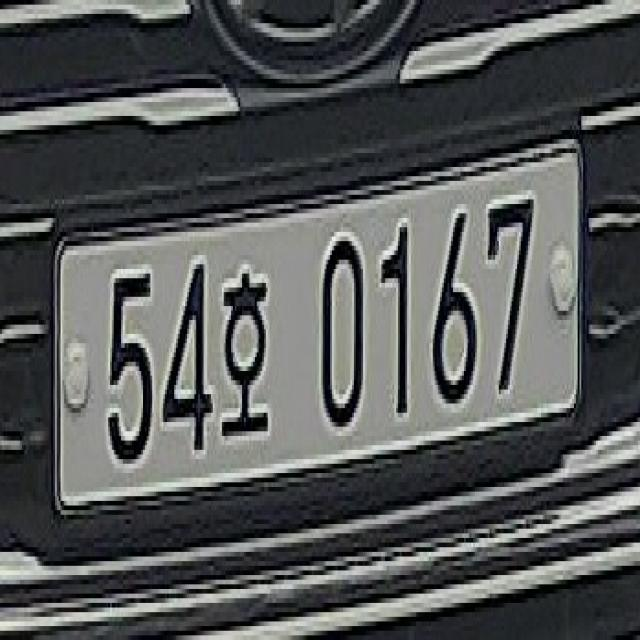0: (304, 227, 376, 436)
1: (378, 208, 416, 441)
4: (162, 223, 214, 473)
5: (104, 260, 160, 463)
6: (429, 200, 481, 408)
7: (488, 172, 554, 385)
ho: (213, 251, 273, 459)
license_plate: (44, 116, 620, 552)
